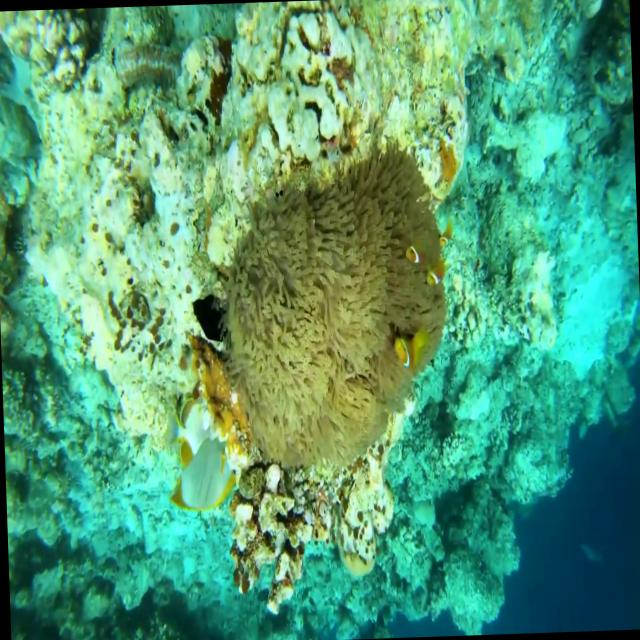fish: (386, 318, 431, 388), (420, 260, 446, 300), (404, 230, 430, 262), (432, 214, 452, 253)
